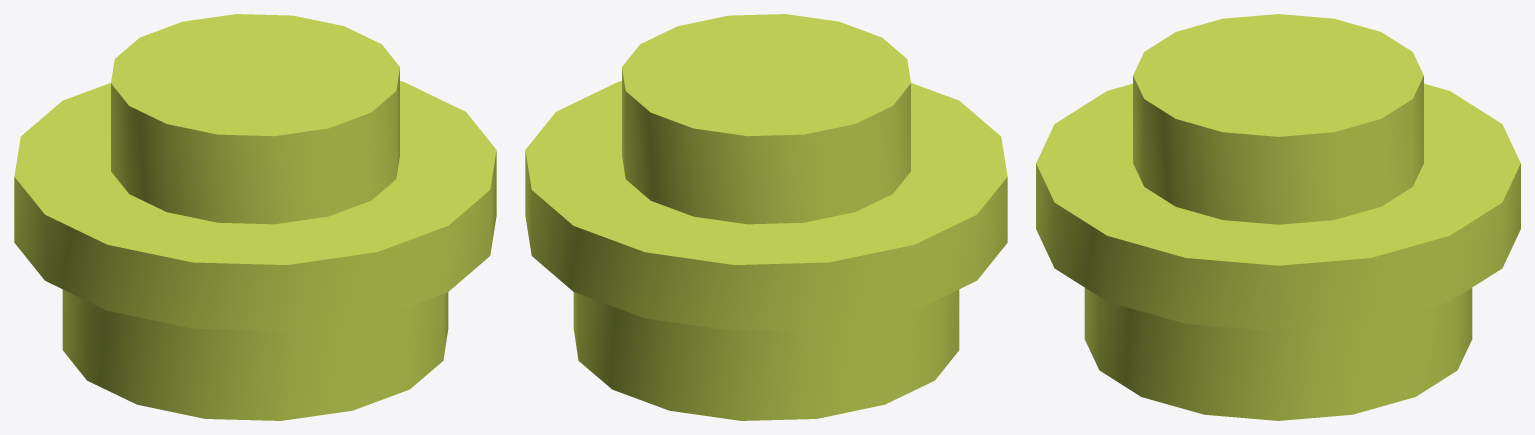
Rendered from Lime_Stud_Final.fbx.
3 renders of one model, left to right at view 1: azimuth 30°, elevation 25°; view 2: azimuth 150°, elevation 25°; view 3: azimuth 270°, elevation 25°, orthographic.
Parts seen in each view (by area): view 1: Lime_Stud; view 2: Lime_Stud; view 3: Lime_Stud.
Boxes of the visible parts, x1,y1,x2,y2 form: Lime_Stud: (14,14,496,420); Lime_Stud: (525,14,1007,420); Lime_Stud: (1036,14,1520,420).
Size of the model in its own units: 200 by 120 by 200.
